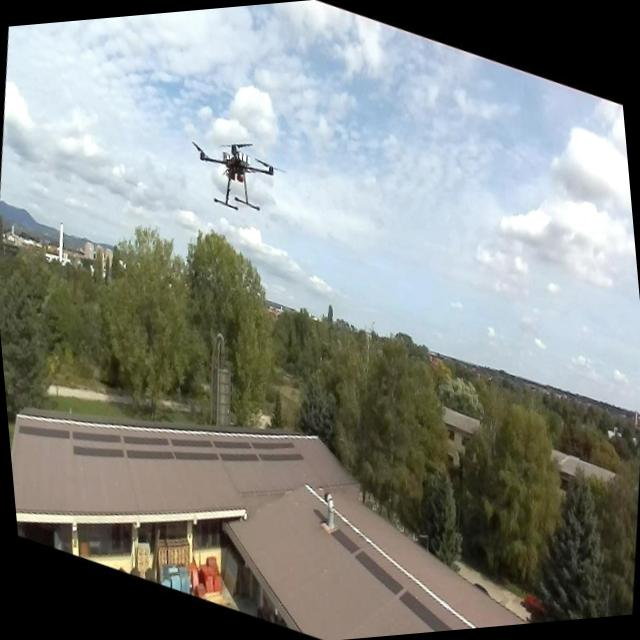drone: (185, 112, 284, 231)
